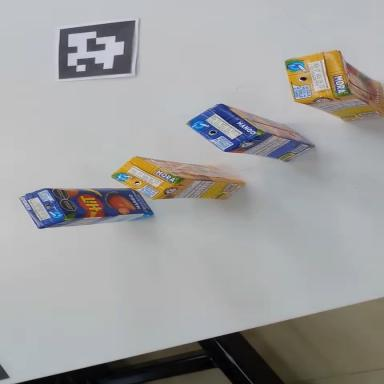HIT-MANGO: (183, 95, 317, 179), (19, 179, 154, 230)
HIT-MORA: (286, 44, 384, 130), (110, 153, 245, 213)
cara_F: (218, 104, 316, 150), (47, 182, 153, 220), (323, 51, 384, 117), (135, 157, 245, 187)
